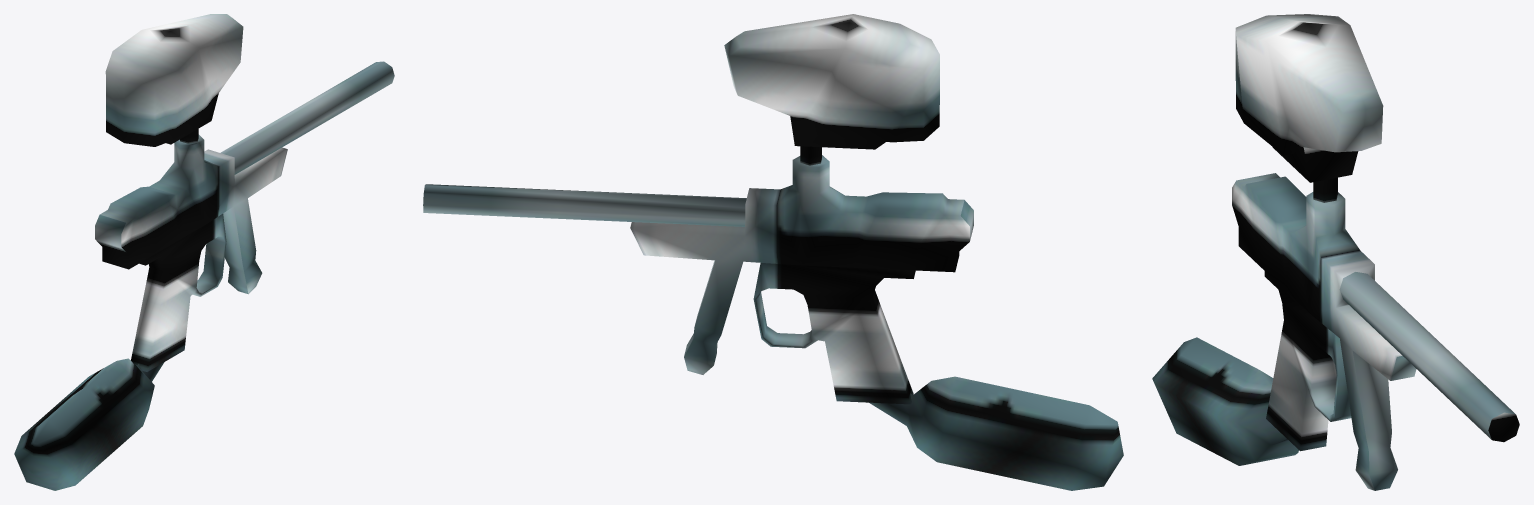
Rendered from icon.ico.obj.
3 renders of one model, left to right at view 1: azimuth 30°, elevation 25°; view 2: azimuth 150°, elevation 25°; view 3: azimuth 270°, elevation 25°, orthographic. The views are drawn at different scales.
Size of the model in its own units: 4.12 by 3.12 by 2.07.
